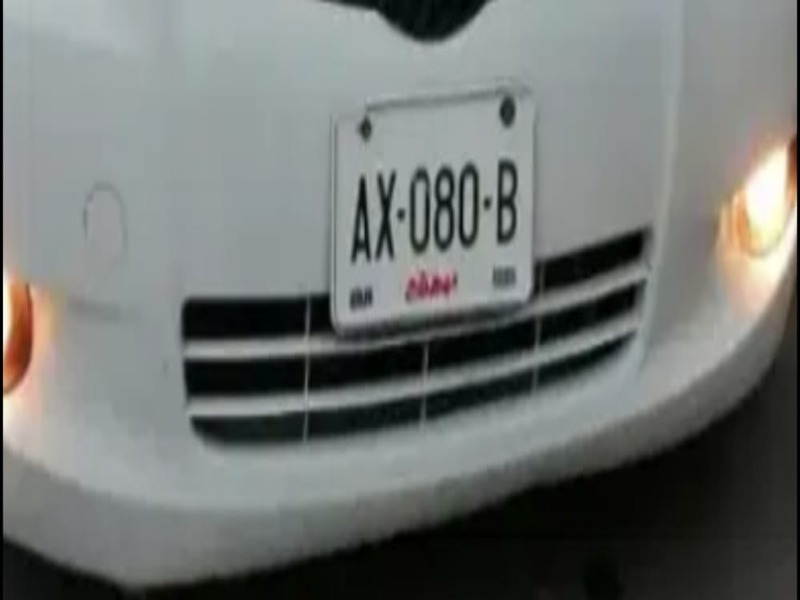License Plate: (334, 84, 536, 334)
